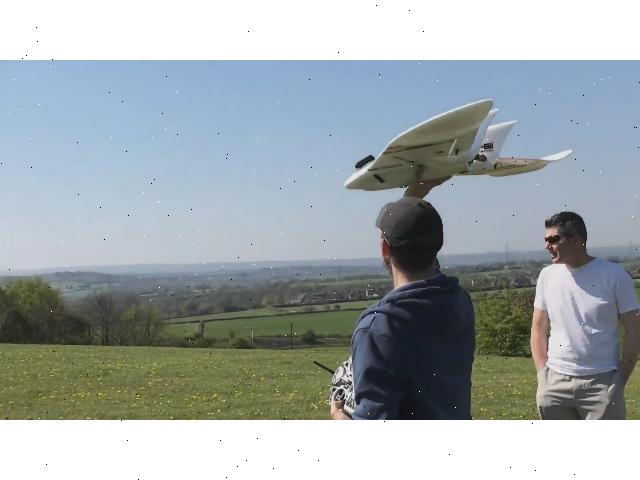Anti-Drone: (317, 76, 591, 212)
